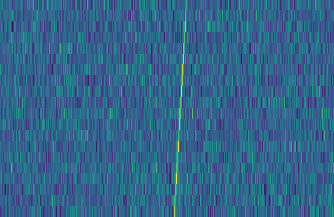signal: (169, 0, 191, 217)
